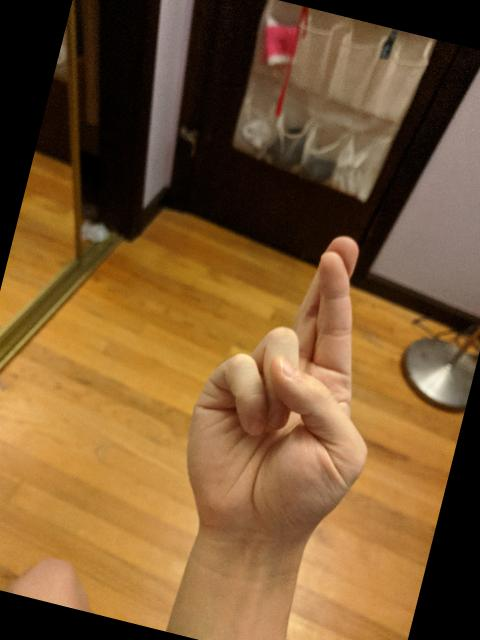R: (156, 204, 424, 578)
